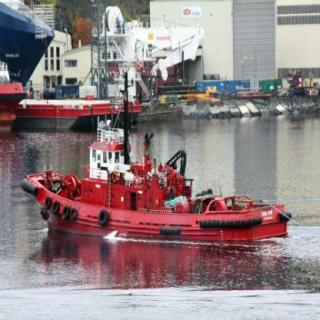Tug Boat: (17, 114, 291, 240)
